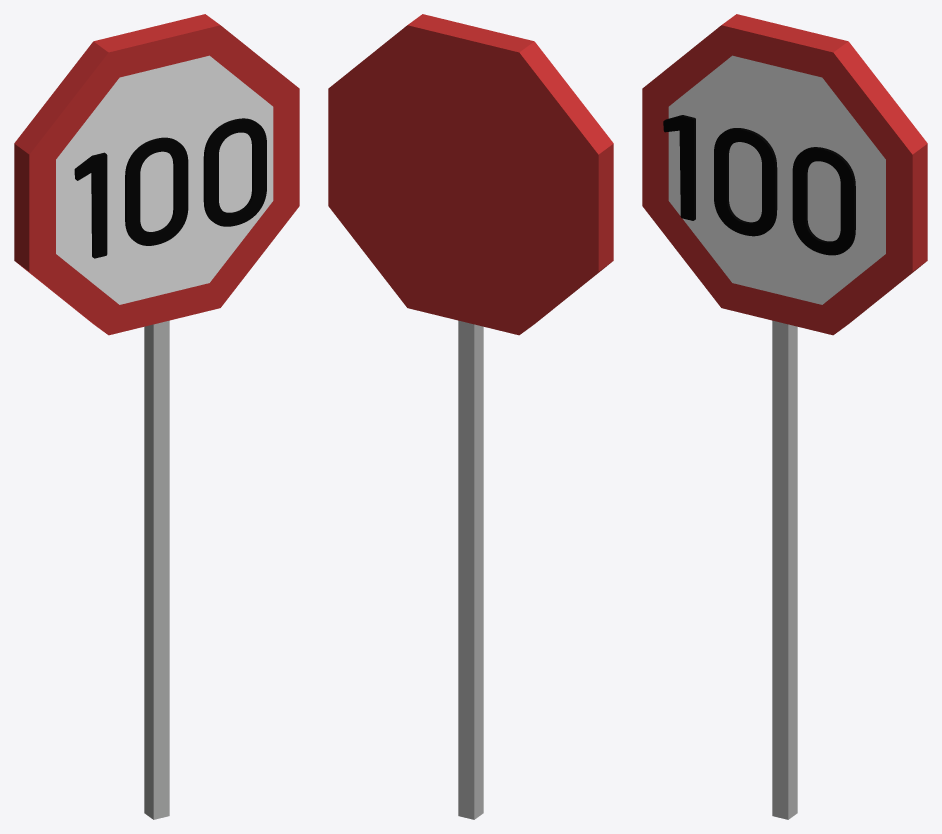
Rendered from 100_speed_sign.fbx.
3 views of the same model, side by side, from view 1: azimuth 30°, elevation 25°; view 2: azimuth 150°, elevation 25°; view 3: azimuth 330°, elevation 25° (orthographic).
Parts seen in each view (by area): view 1: 100_speed_sign; view 2: 100_speed_sign; view 3: 100_speed_sign.
Part boxes in pixels (x1=…): 100_speed_sign: x1=14, y1=14, x2=299, y2=819; 100_speed_sign: x1=328, y1=14, x2=613, y2=819; 100_speed_sign: x1=642, y1=14, x2=927, y2=819.
Size of the model in its own units: 1.19 by 3.29 by 0.2151.
2 materials, 1 textured.
